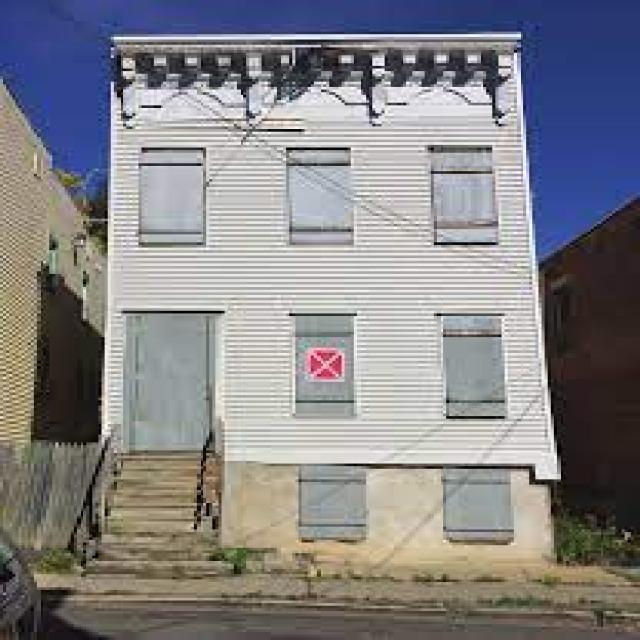House: (72, 4, 553, 559), (0, 52, 93, 632), (539, 168, 637, 563)
